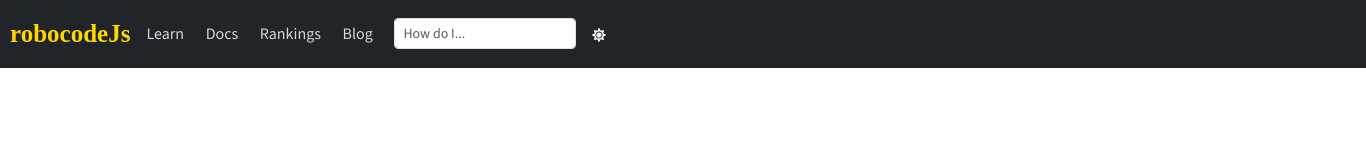
Test case: NavBar search › explains a miss instead of sitting silent
In the search field named "Search": point(485, 34) [394,18,576,49], type "xyzzy"
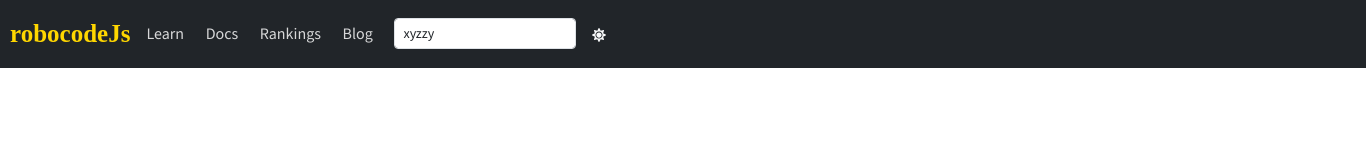
Press Enter in the search field named "Search", box [394,18,576,49]
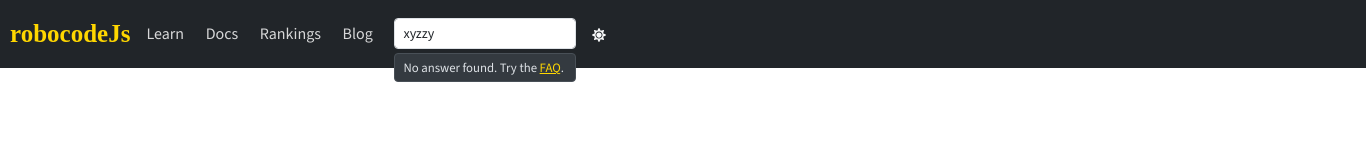
Check: the text "No answer found. Try the FAQ ." is shown, box [394,53,576,82]
